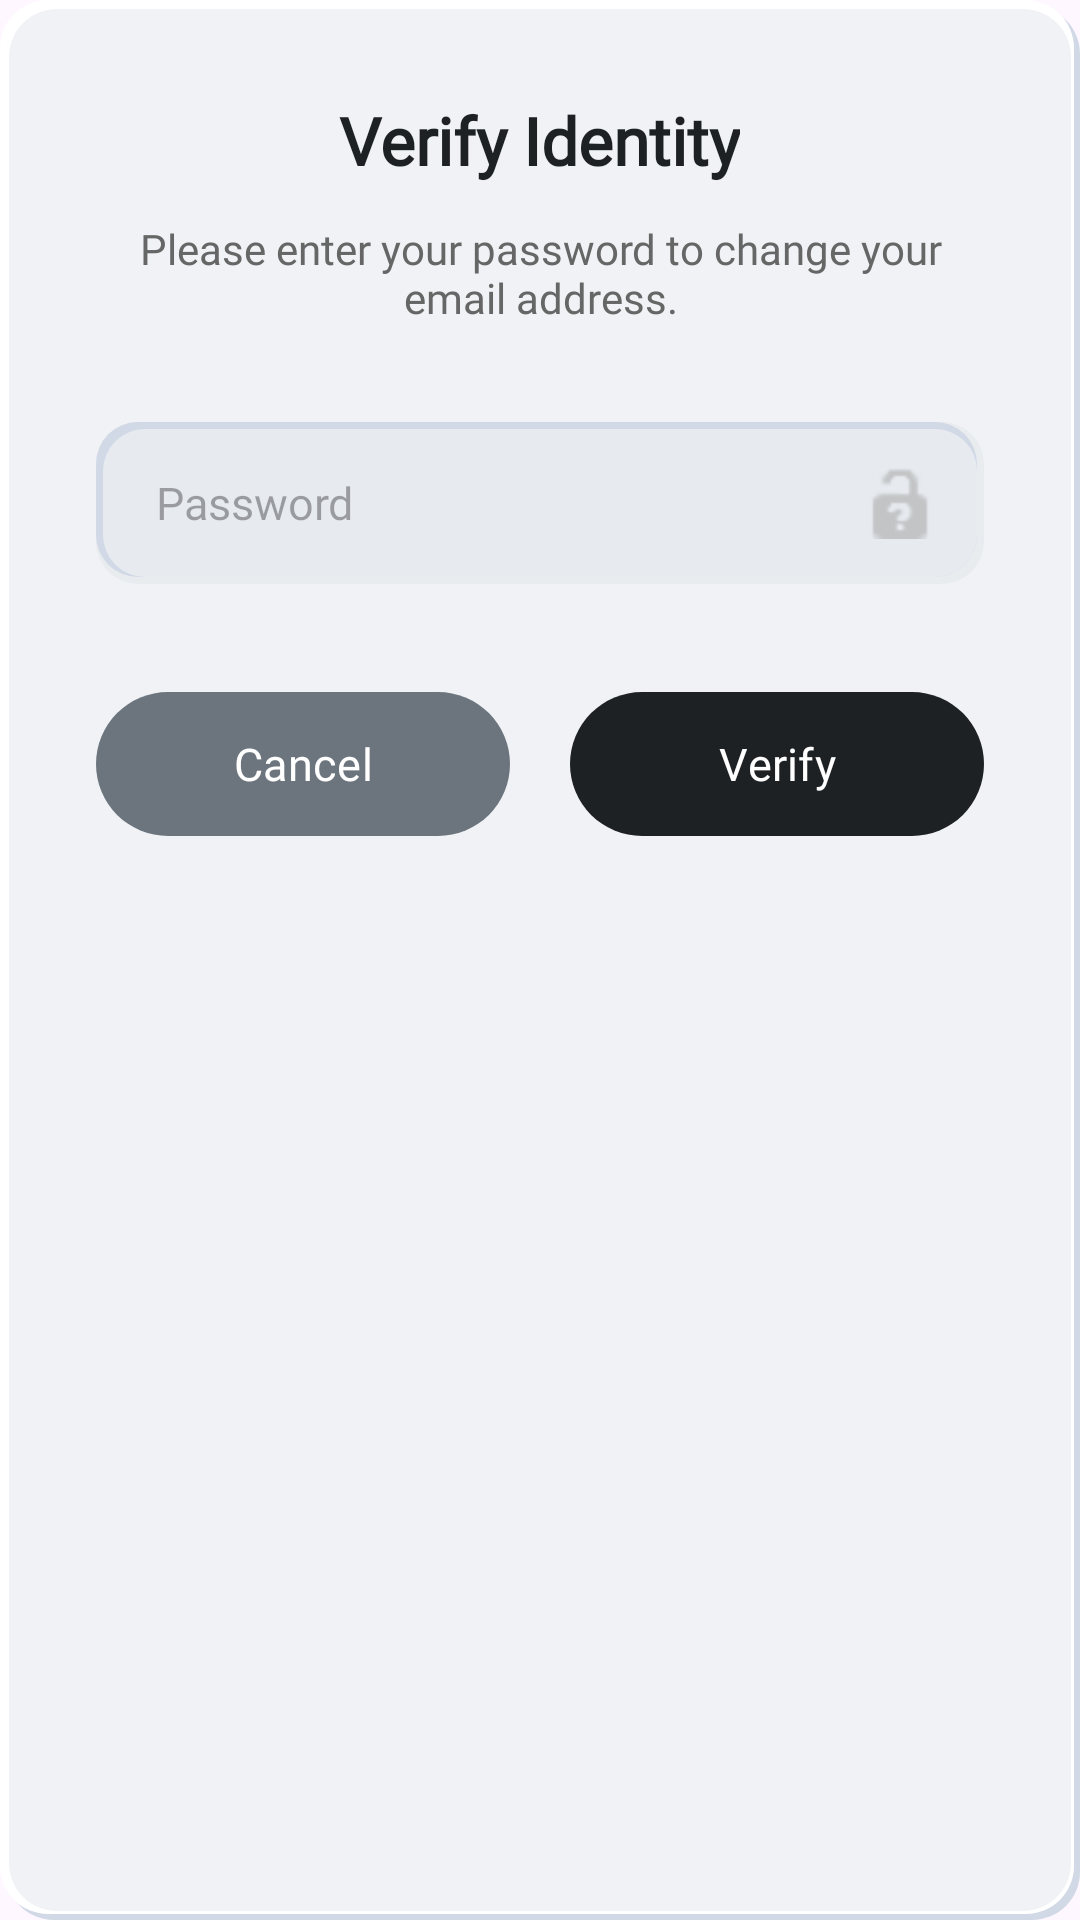

Where icons sit on this 1080 x 1920 app screen, as (x1, y1, x2, y2):
partial secure: (873, 470, 927, 539)
